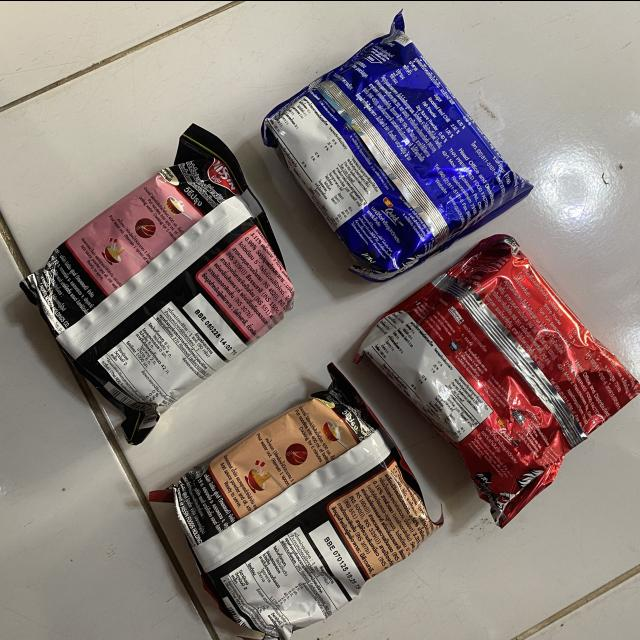plastik: (21, 124, 295, 443), (358, 234, 640, 527), (150, 363, 443, 640), (264, 12, 532, 280)
